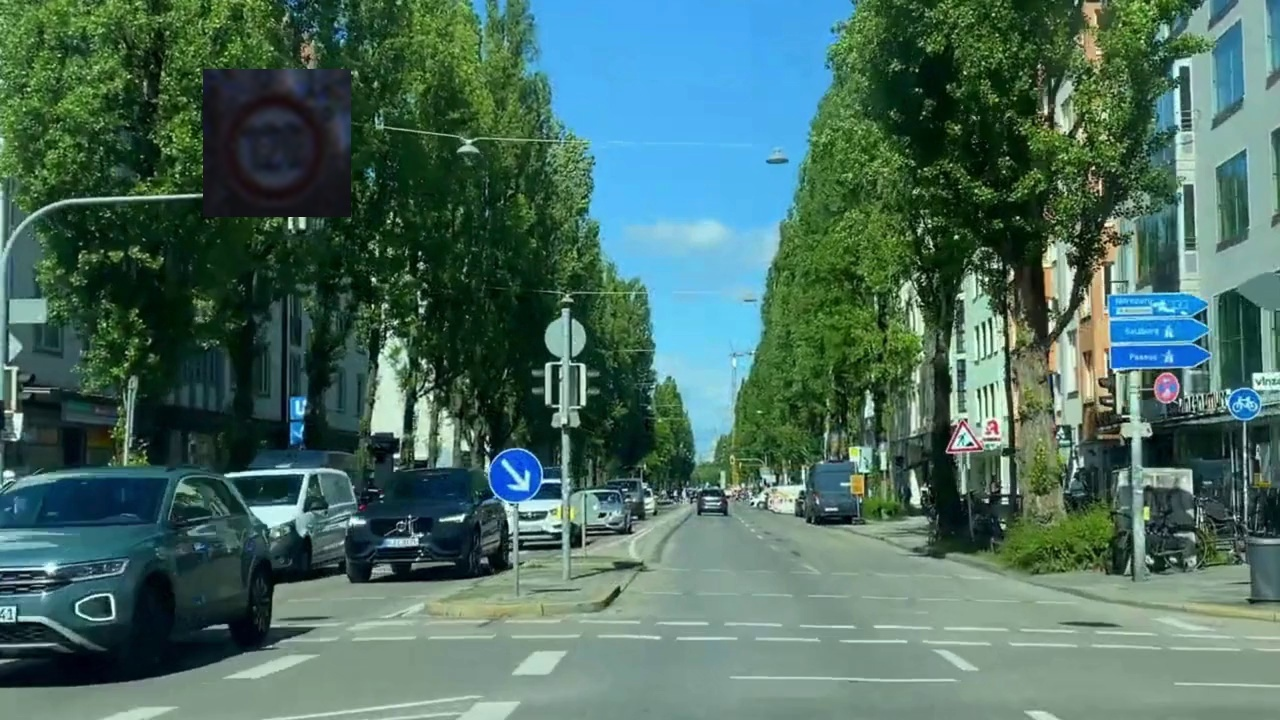Speed 120: (203, 69, 351, 217)
